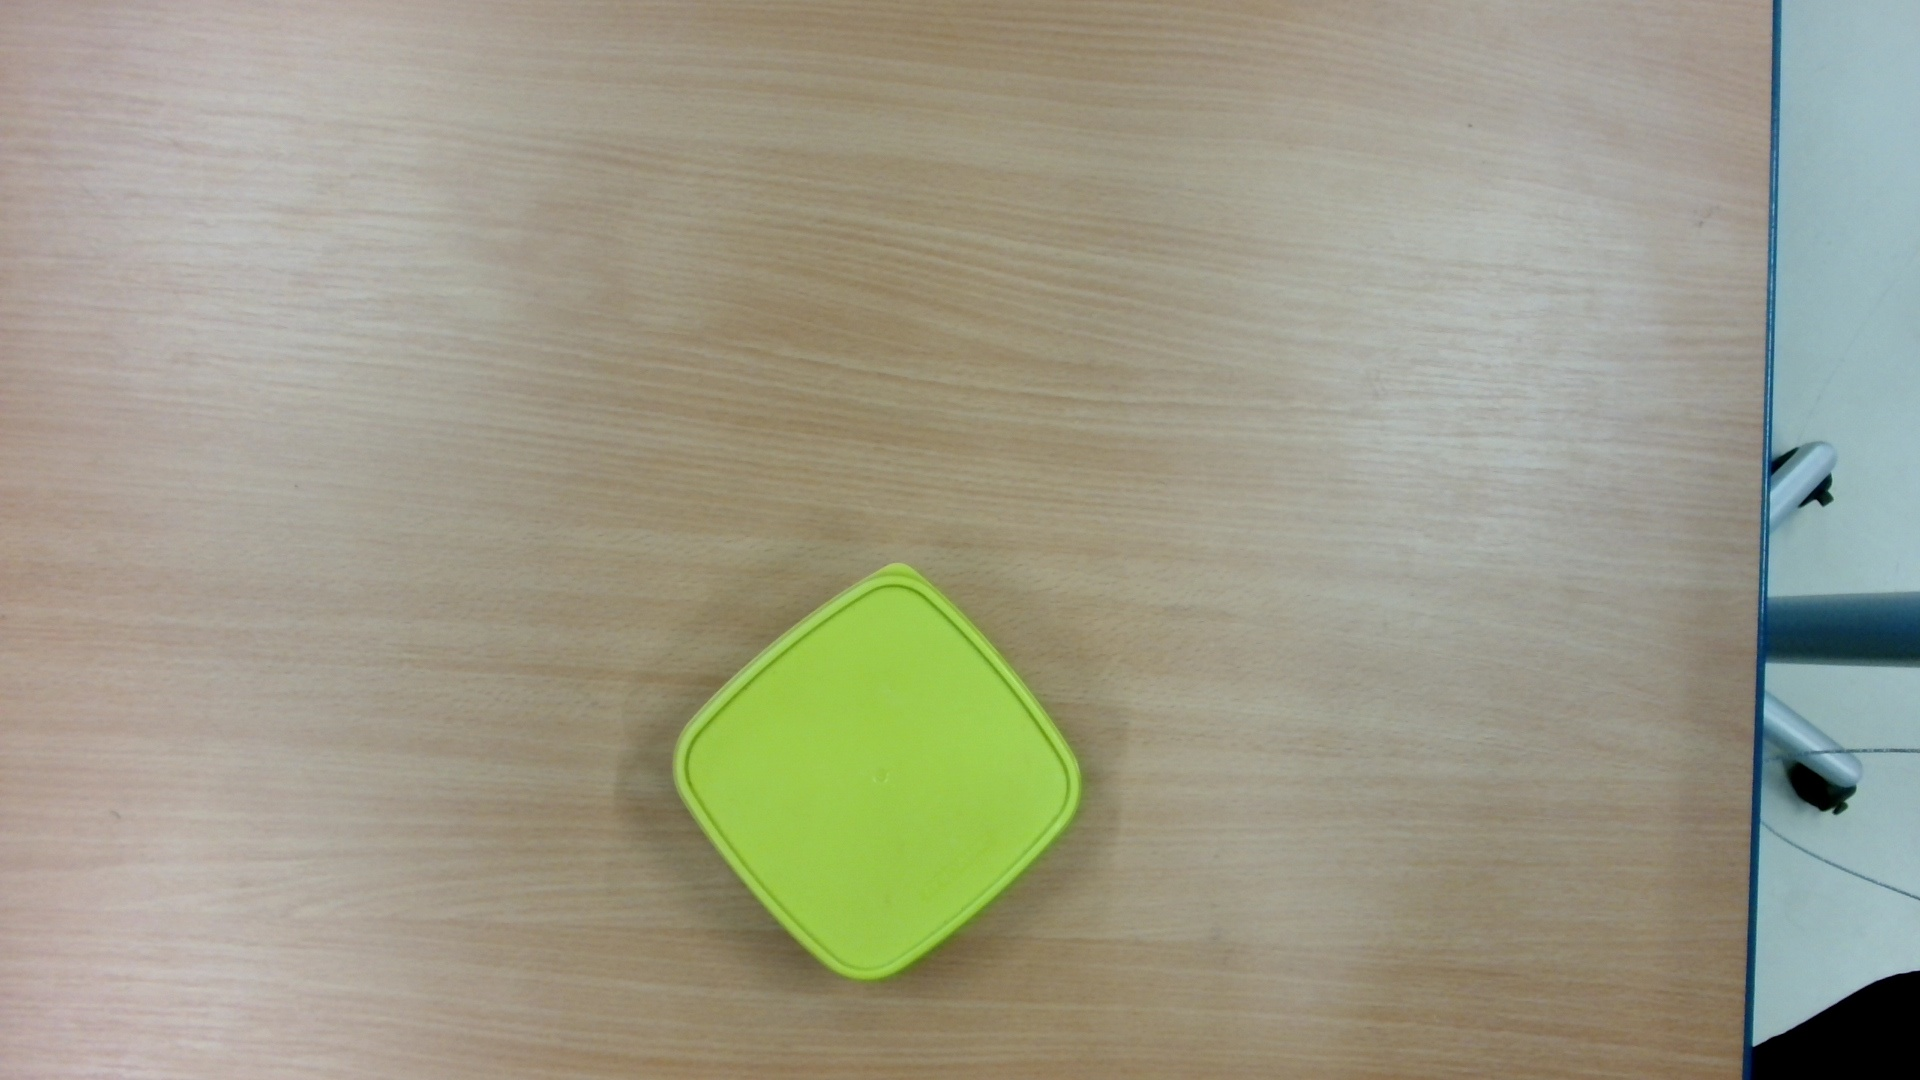Box: (663, 556, 1091, 992)
